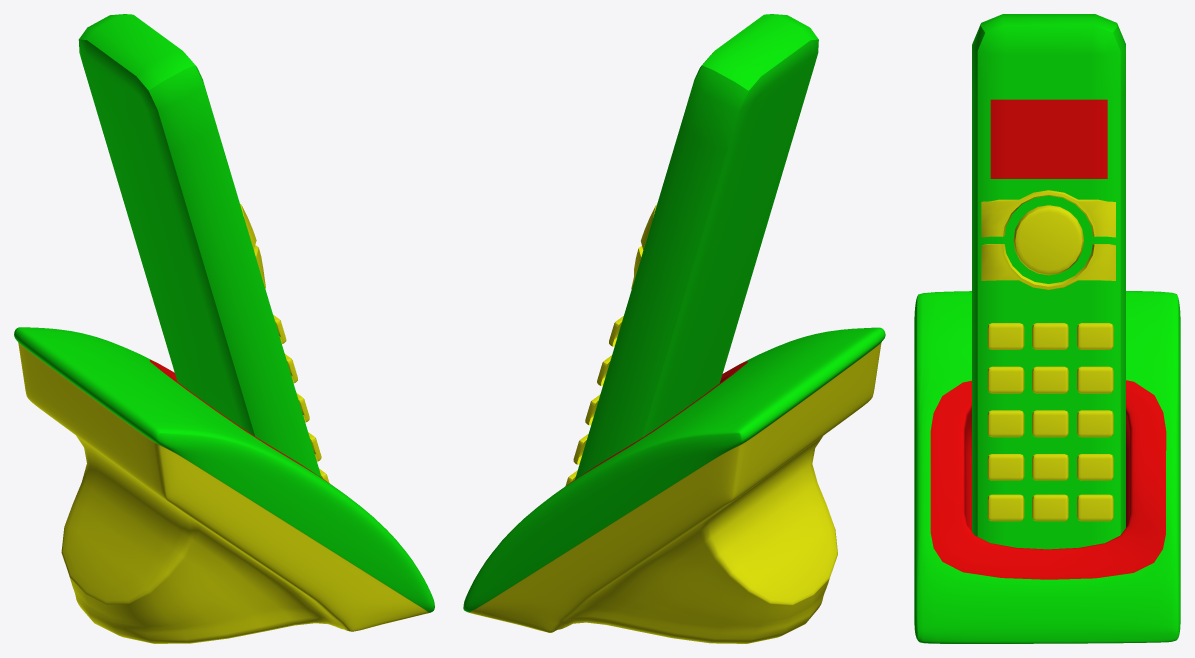
File: L_Telephone.fbx
The picture shows the model from 3 angles, left to right: view 1: azimuth 30°, elevation 25°; view 2: azimuth 150°, elevation 25°; view 3: azimuth 270°, elevation 25°; orthographic projection. The views are drawn at different scales.
Visible parts, largest first — view 1: L_TelephoneBase, L_Telephone; view 2: L_TelephoneBase, L_Telephone; view 3: L_Telephone, L_TelephoneBase.
Part boxes in pixels (x1,y1,x2,y2): L_TelephoneBase: (14, 327, 434, 643); L_Telephone: (78, 14, 329, 482); L_TelephoneBase: (463, 327, 885, 643); L_Telephone: (565, 14, 818, 485); L_Telephone: (972, 14, 1125, 549); L_TelephoneBase: (914, 291, 1180, 643).
Size of the model in its own units: 9.18 by 17.74 by 8.1.
